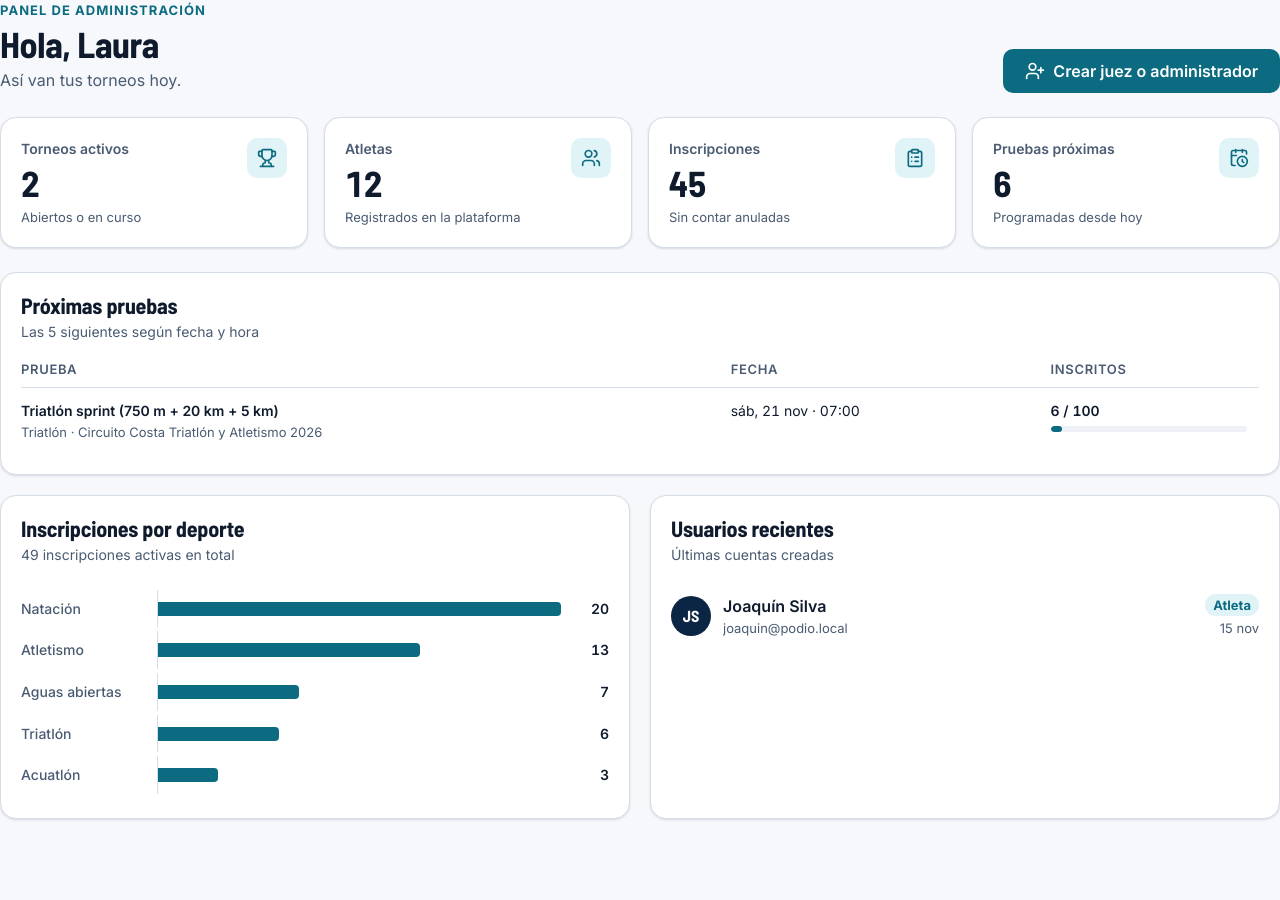
DashboardPage › cierra el diálogo con la tecla Escape
Click the button "Crear juez o administrador". click: (1142, 70)
box: [1003,48,1279,92]
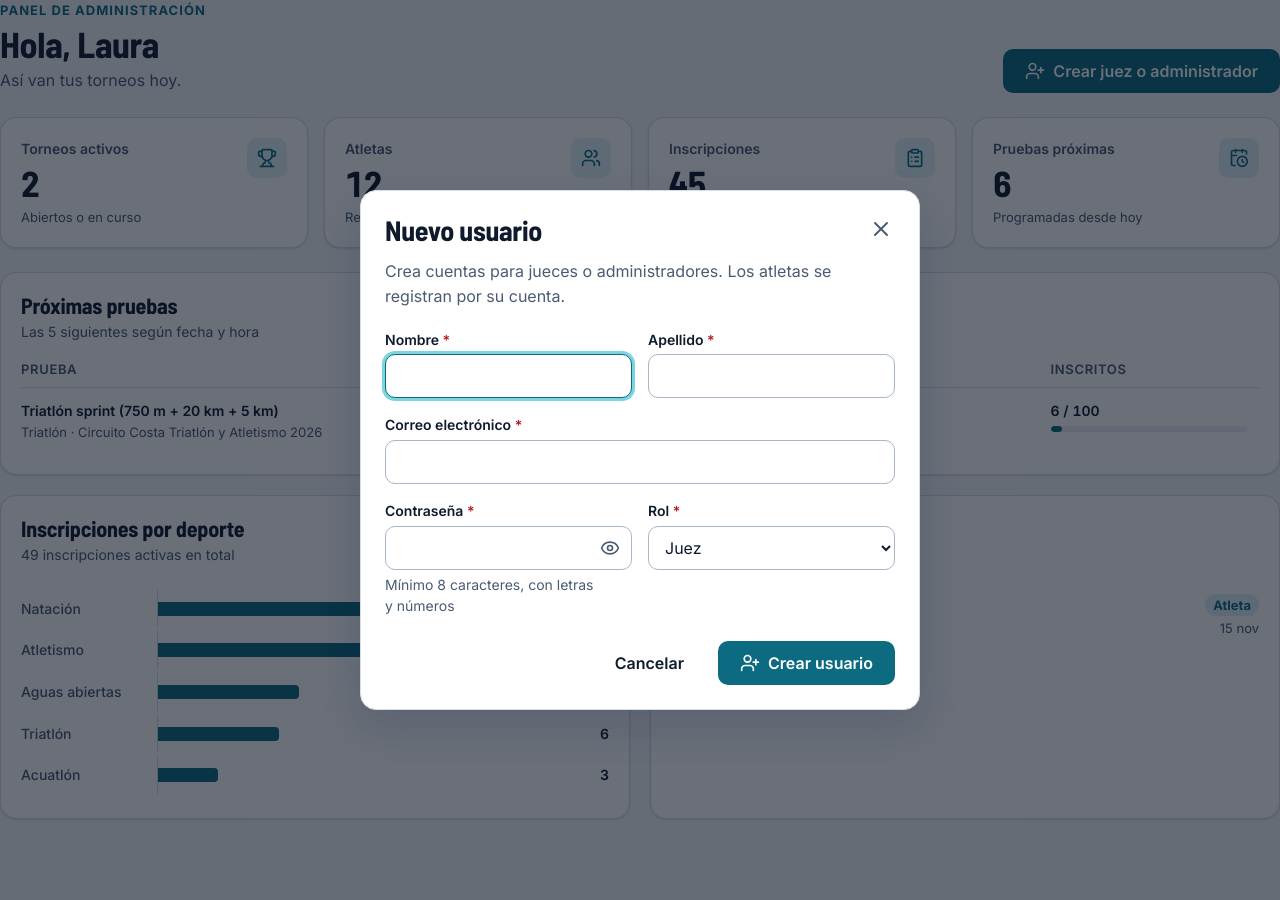
Check: the dialog is shown, box [360,190,920,710]
Press Escape
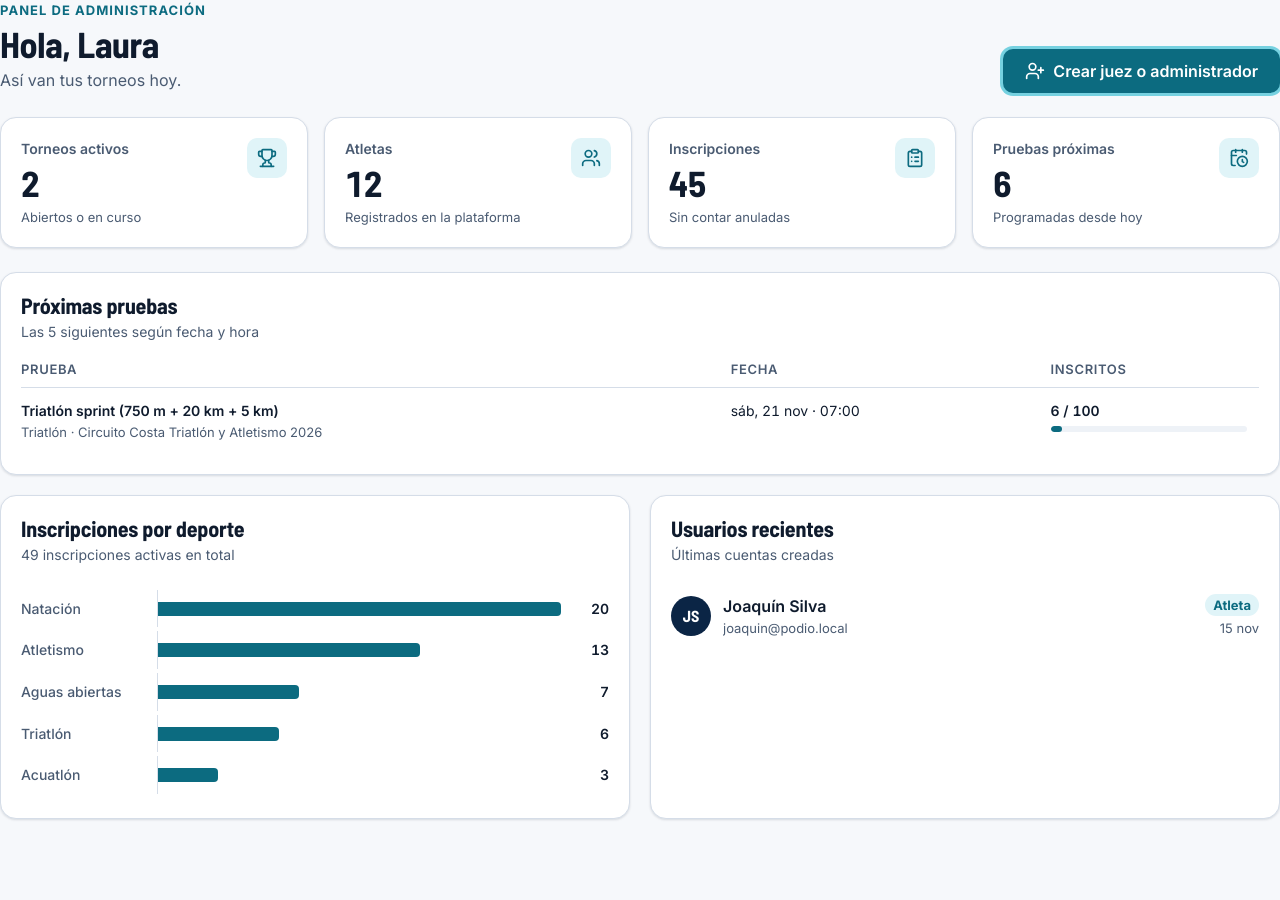
Check: the dialog is gone
